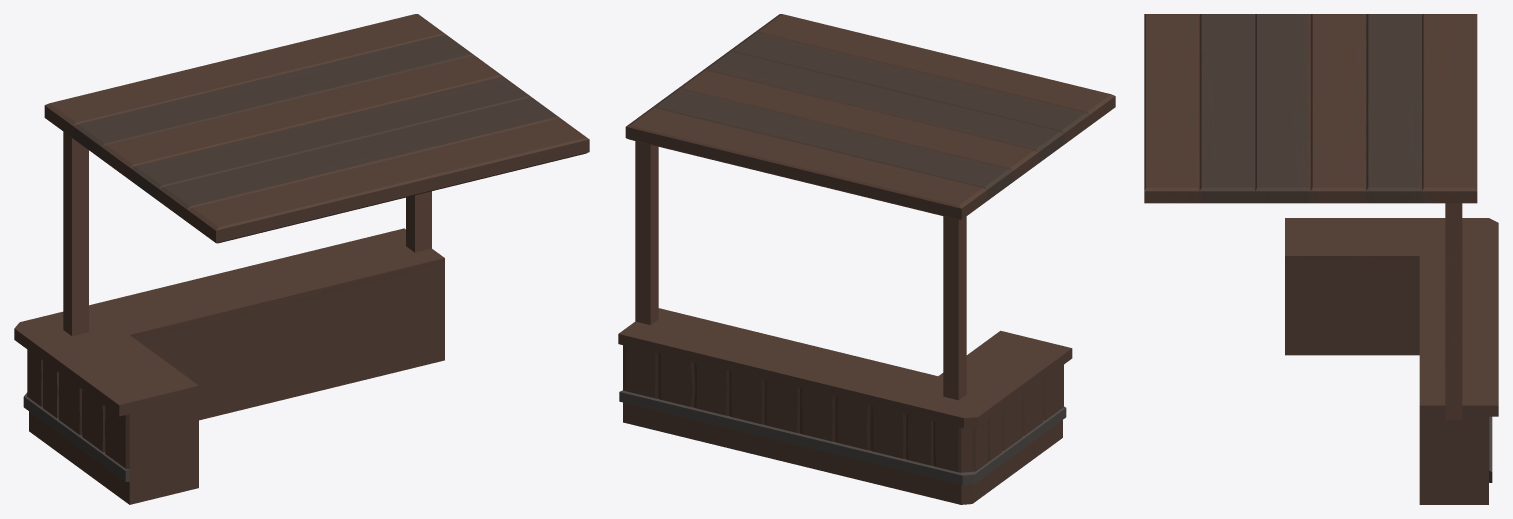
3 renders of one model, left to right at view 1: azimuth 30°, elevation 25°; view 2: azimuth 150°, elevation 25°; view 3: azimuth 270°, elevation 25°, orthographic. The views are drawn at different scales.
Parts seen in each view (by area): view 1: scaffold; view 2: scaffold; view 3: scaffold.
Boxes of the visible parts, <box> form: scaffold: <box>14,14,589,504</box>; scaffold: <box>618,14,1115,504</box>; scaffold: <box>1144,14,1498,504</box>.
Bounding box in the file's own units: 2 × 1.56 × 1.59.
Materials: 1 (1 with a texture image).
